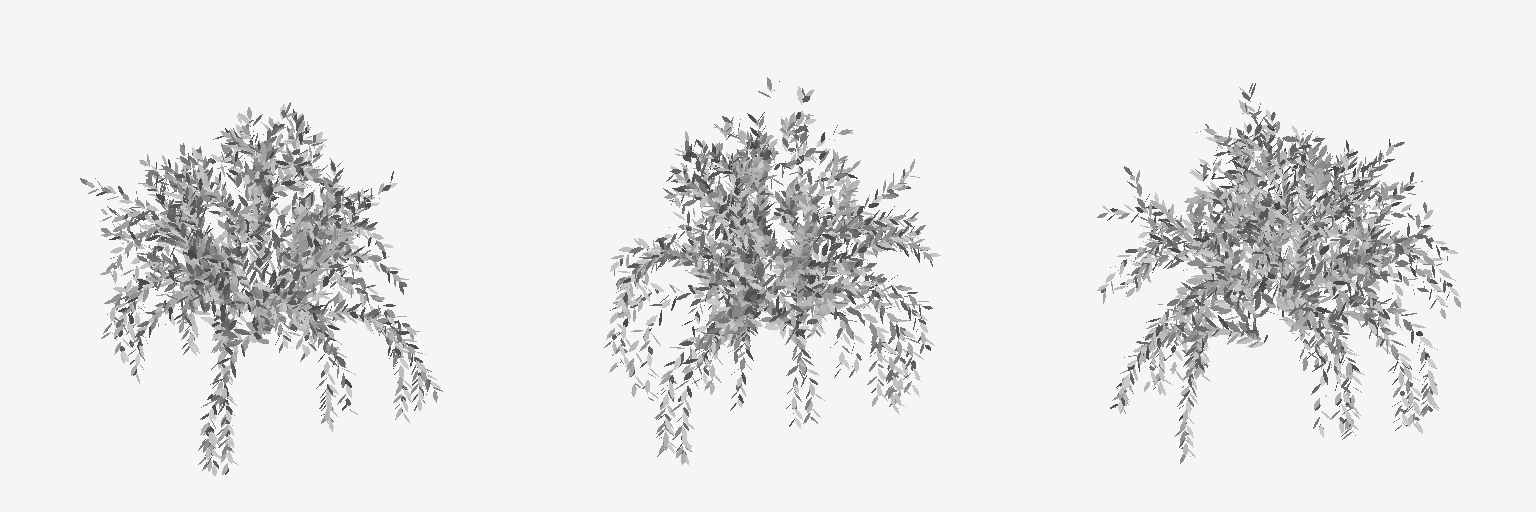
File: tree2_leaves.obj
3 views of the same model, side by side, from view 1: azimuth 30°, elevation 25°; view 2: azimuth 150°, elevation 25°; view 3: azimuth 270°, elevation 25° (orthographic).
Parts seen in each view (by area): view 1: leaves; view 2: leaves; view 3: leaves.
Part boxes in pixels (bbox=[...]): leaves: bbox=[80, 102, 442, 476]; leaves: bbox=[604, 77, 940, 464]; leaves: bbox=[1097, 83, 1460, 463].
Size of the model in its own units: 2.94 by 3.07 by 3.1.